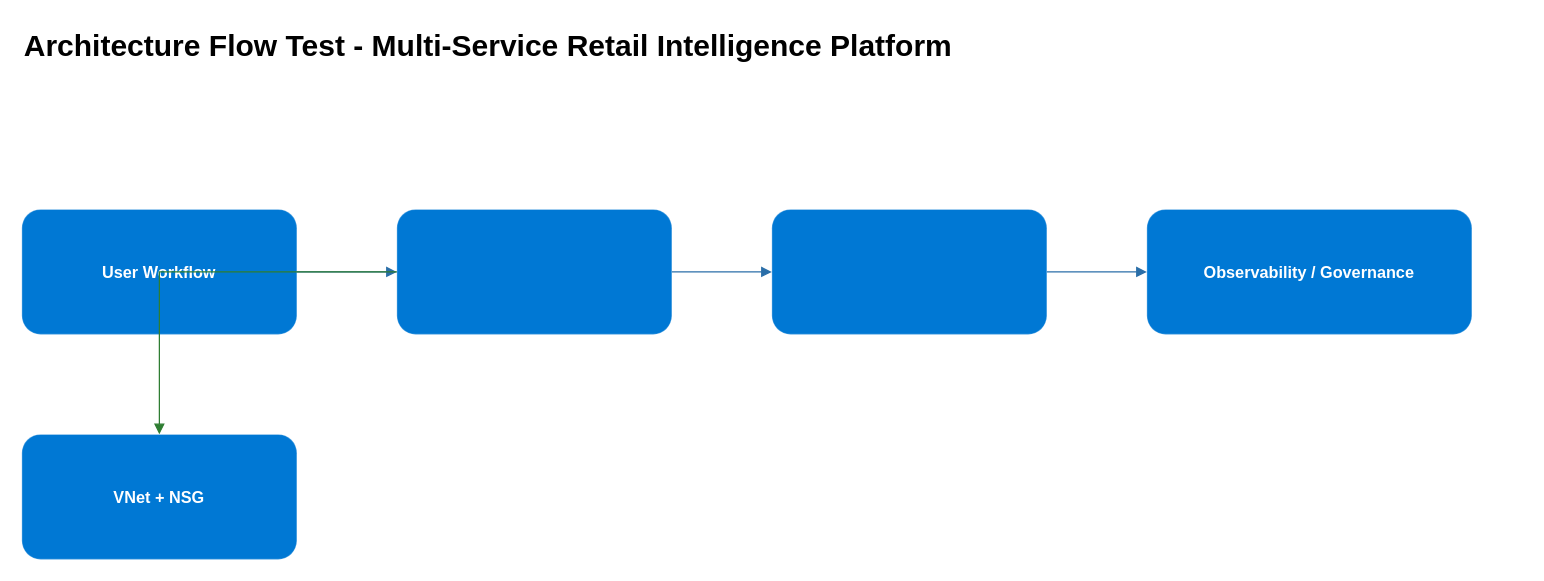
This 1544x581 diagram has some shape labels left out. Here are the shapes that lost their labels. From the top down, the centre of each, then its label:
At (534,271): "API Layer".
At (909,271): "Azure Data / Knowledge".
